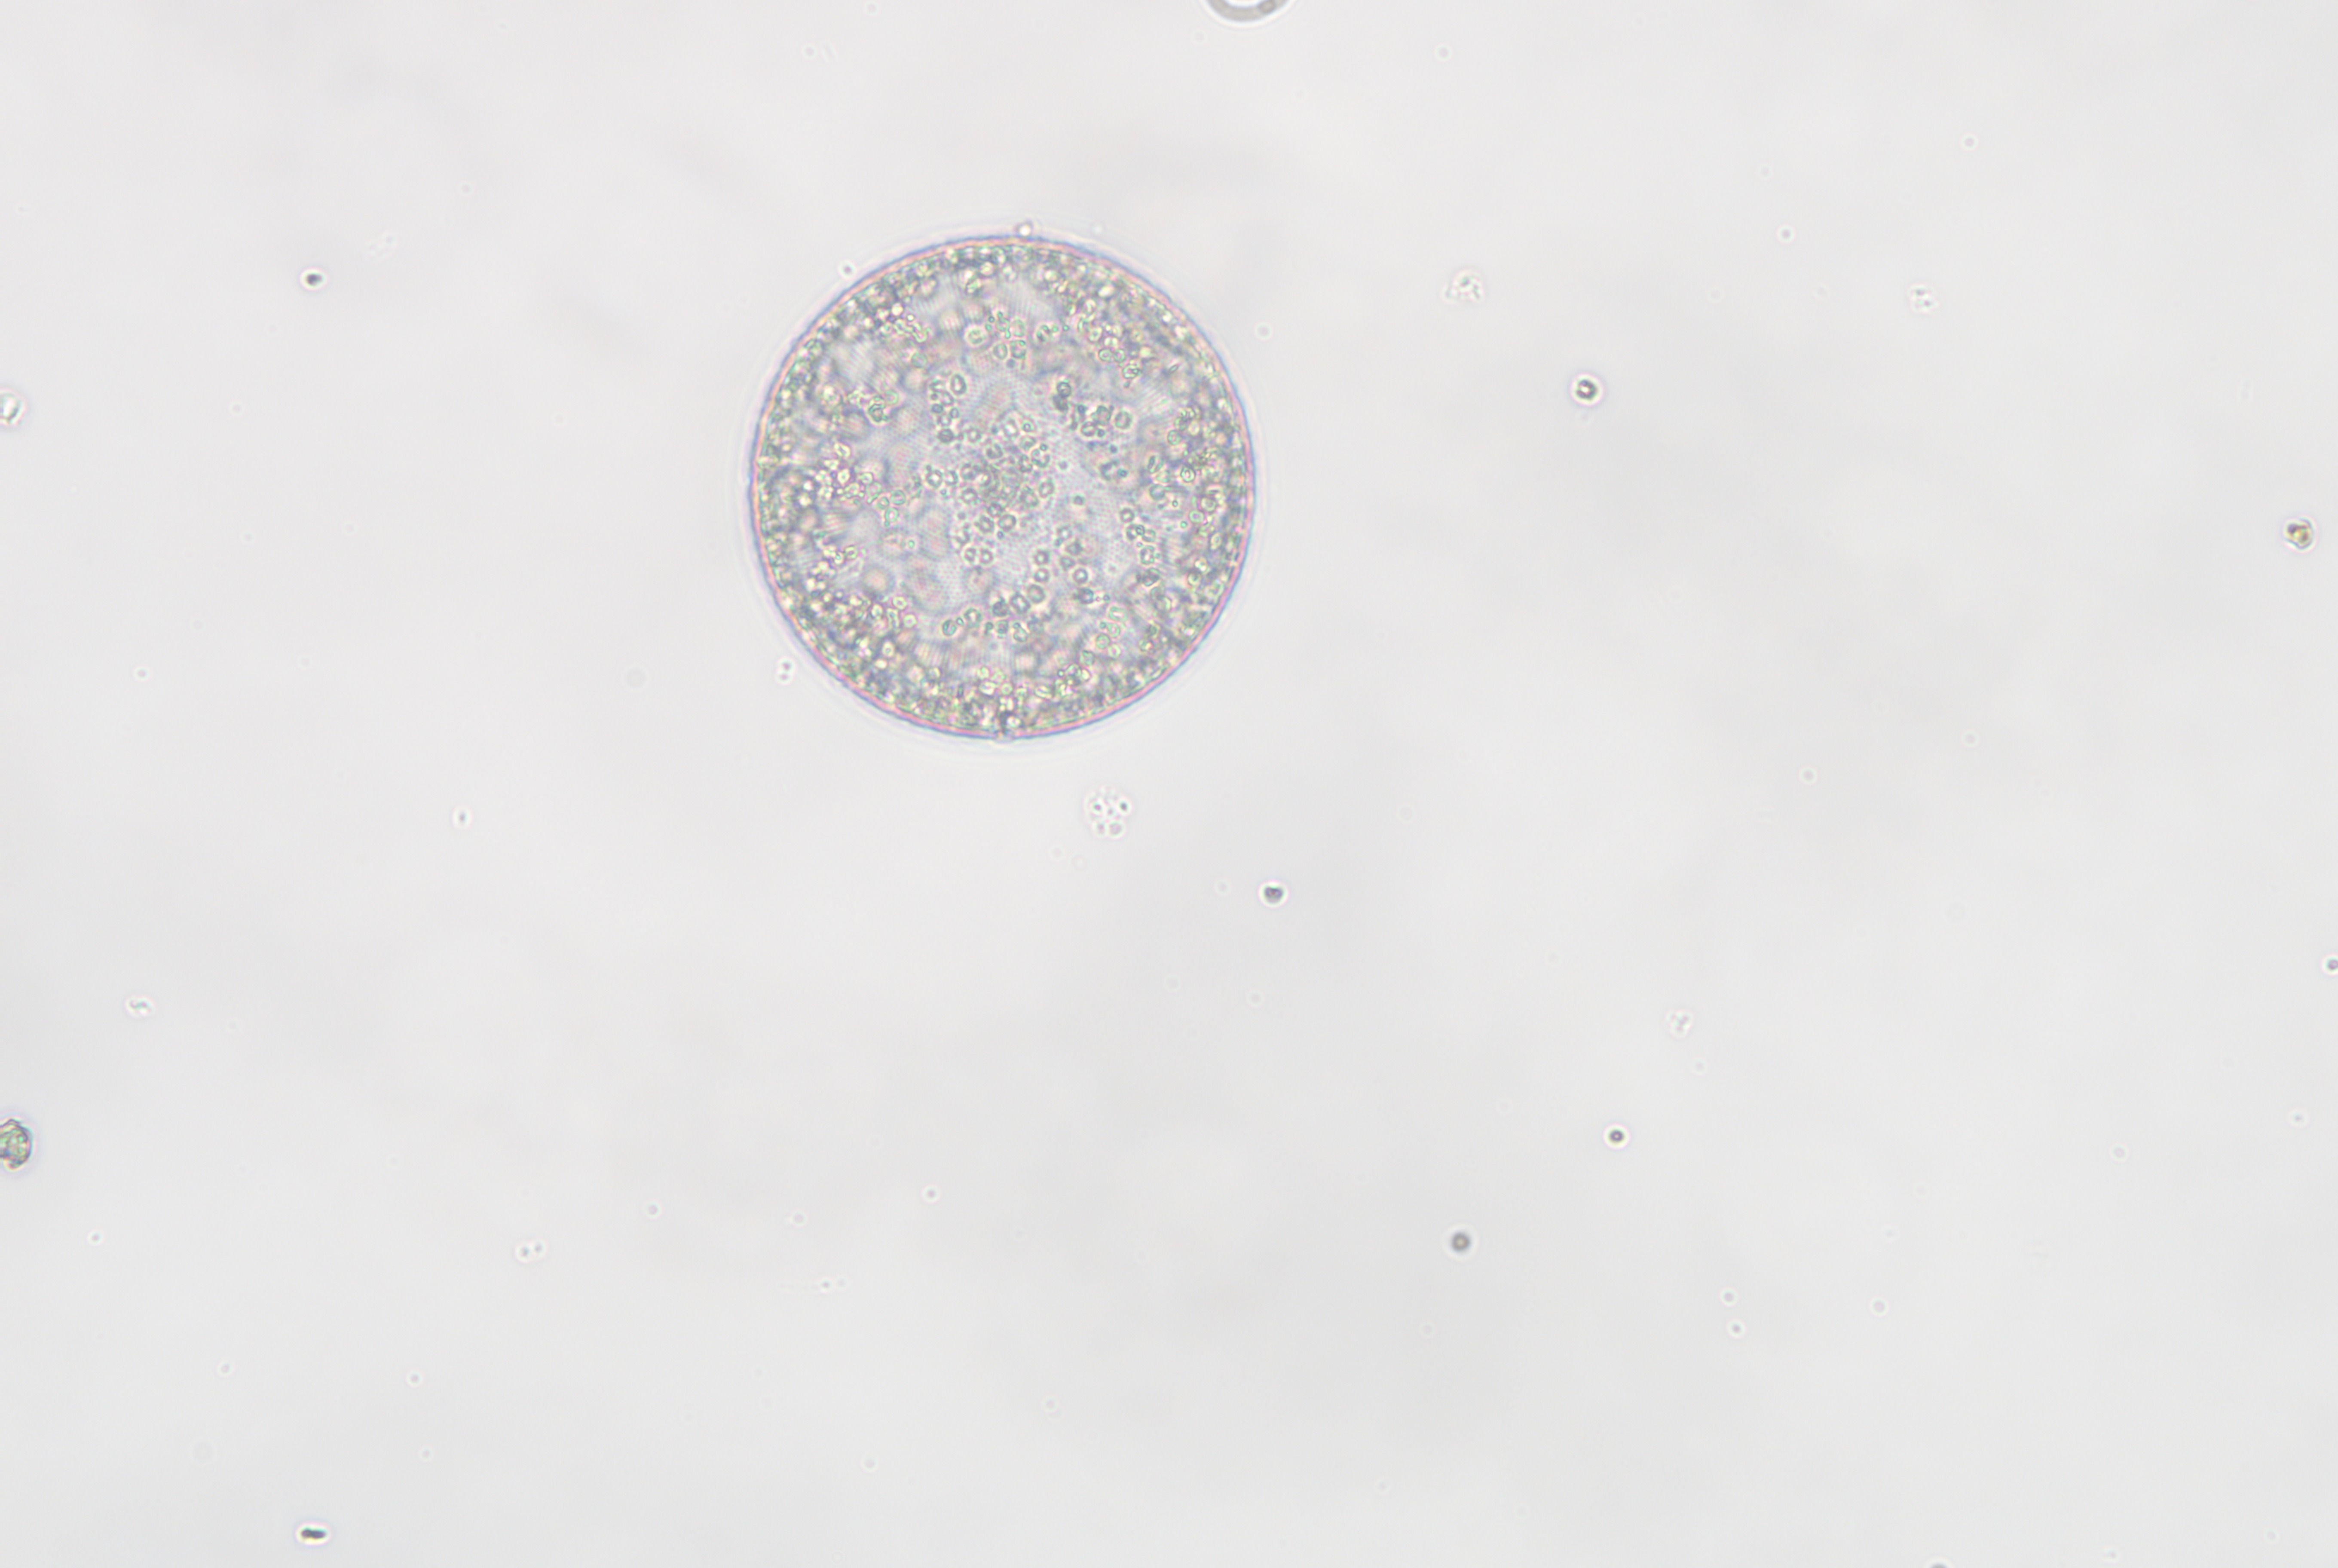coscinodiscus: (745, 227, 1264, 744)
